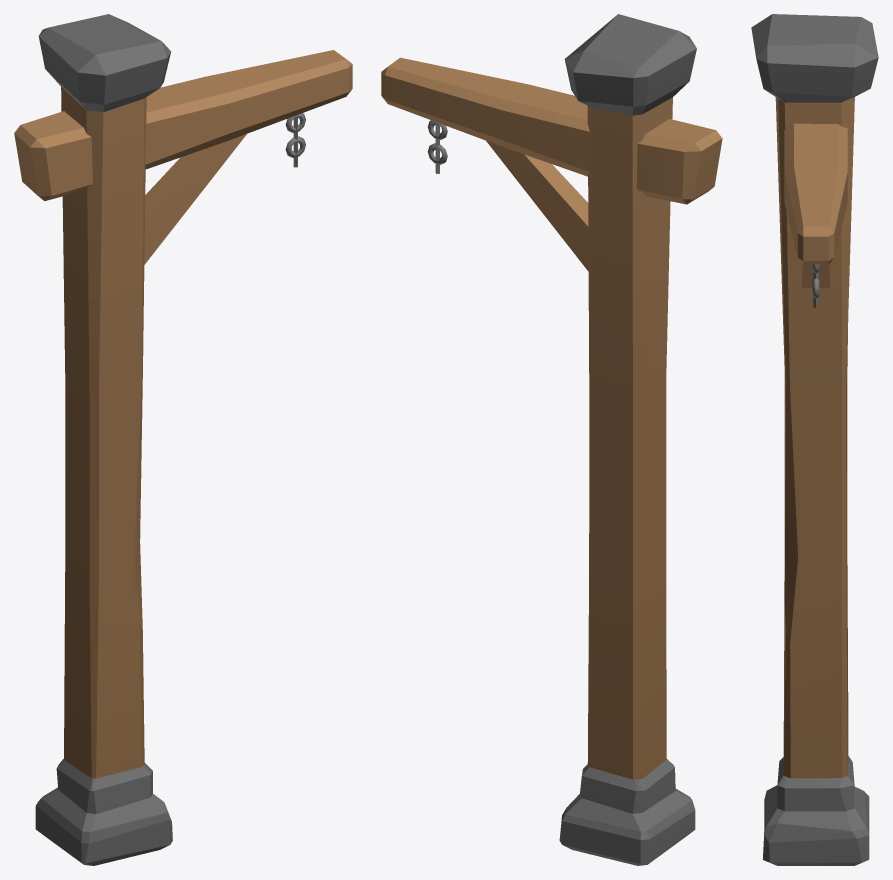
The model's file is Lamp_Road_A.fbx.
The picture shows the model from 3 angles, left to right: view 1: azimuth 30°, elevation 25°; view 2: azimuth 150°, elevation 25°; view 3: azimuth 270°, elevation 25°; orthographic projection.
Parts seen in each view (by area): view 1: Lamp_Road_A; view 2: Lamp_Road_A; view 3: Lamp_Road_A.
Part boxes in pixels (left/top/right/bottom): Lamp_Road_A: left=14, top=14, right=352, bottom=865; Lamp_Road_A: left=381, top=14, right=722, bottom=865; Lamp_Road_A: left=751, top=14, right=878, bottom=865.
Bounding box in the file's own units: 148 × 350 × 49.34.
